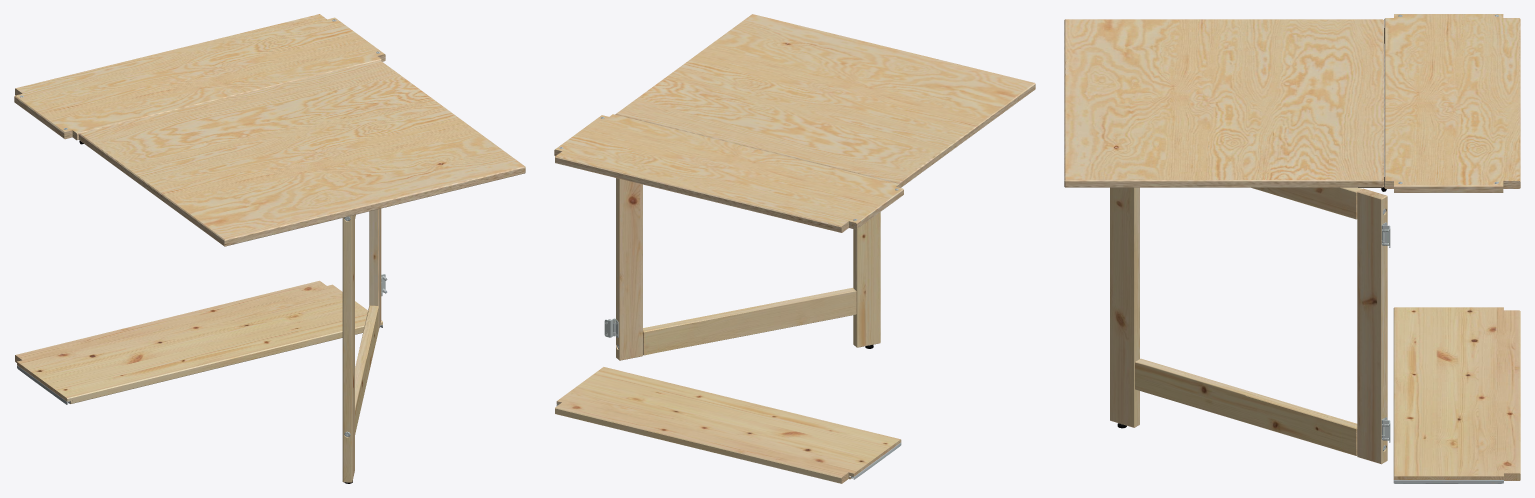
Rendered from IVAR_40512466.glb.
3 views of the same model, side by side, from view 1: azimuth 30°, elevation 25°; view 2: azimuth 150°, elevation 25°; view 3: azimuth 270°, elevation 25° (orthographic). The views are drawn at different scales.
Visible parts, largest first — view 1: Object001; view 2: Object001; view 3: Object001.
Part boxes in pixels (x1=…): Object001: x1=14, y1=14, x2=525, y2=483; Object001: x1=554, y1=14, x2=1035, y2=483; Object001: x1=1064, y1=14, x2=1520, y2=483.
Bounding box in the file's own units: 0.8479 × 0.7545 × 0.951.
1 material, 1 textured.
